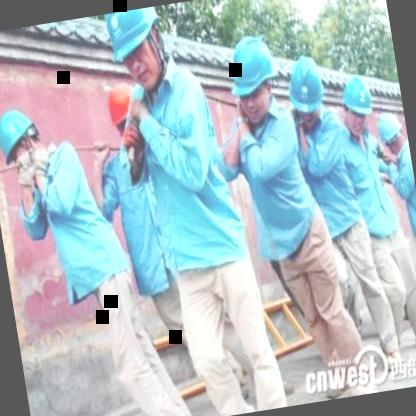helmet: (102, 6, 172, 96), (223, 28, 282, 126), (280, 54, 330, 134), (0, 100, 49, 180), (104, 78, 142, 148), (336, 71, 376, 134), (372, 110, 404, 159)
